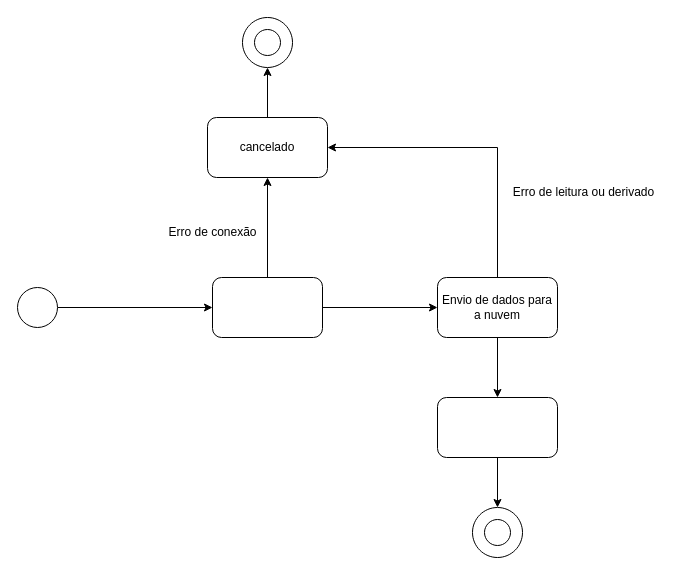
The diagram is 681 pixels wide and 575 high, and some of its shapes have lost their labels. The centre of each missing label's shape, as x and y in pixels:
Backup concluído: point 497,427
Requisição de conexão com a nuvem: point 267,307
